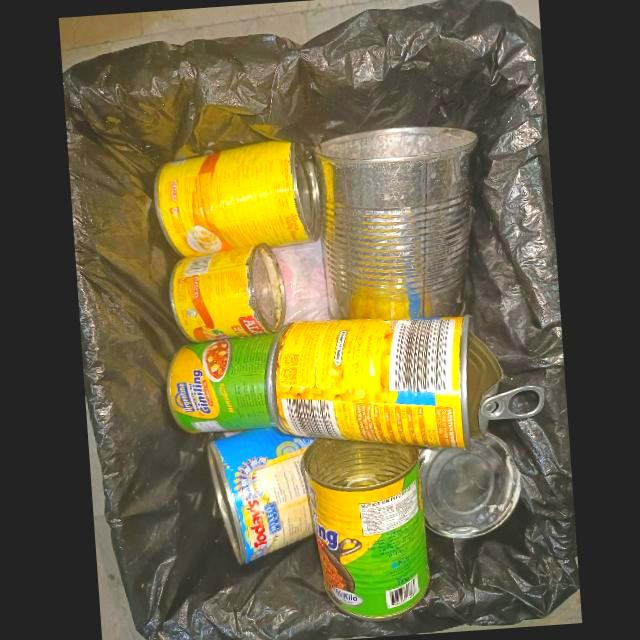aluminum: (265, 313, 546, 449), (313, 124, 478, 320), (300, 436, 431, 619), (153, 140, 325, 256), (207, 426, 315, 564), (169, 242, 286, 342), (166, 332, 276, 433), (418, 431, 521, 538)
